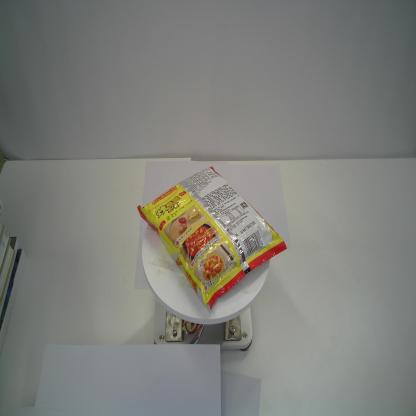Instant Noodles: (137, 165, 288, 310)
